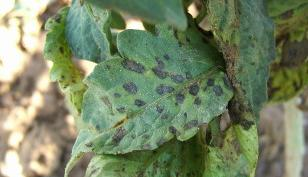Tomato leaf bacterial spot: (60, 42, 247, 177), (186, 0, 276, 127), (79, 104, 223, 177)
